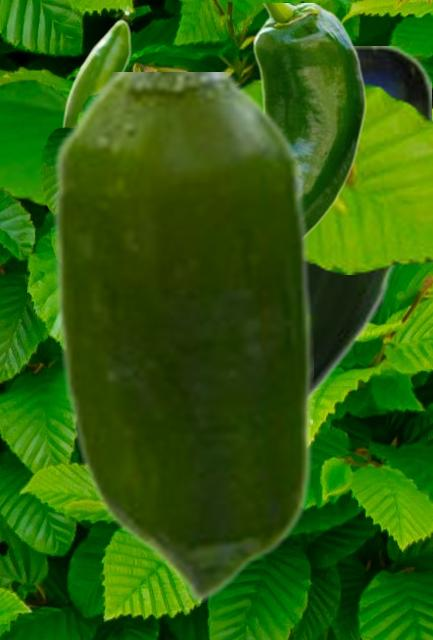green_chili: (51, 72, 312, 601), (61, 3, 366, 234), (310, 46, 430, 401)
